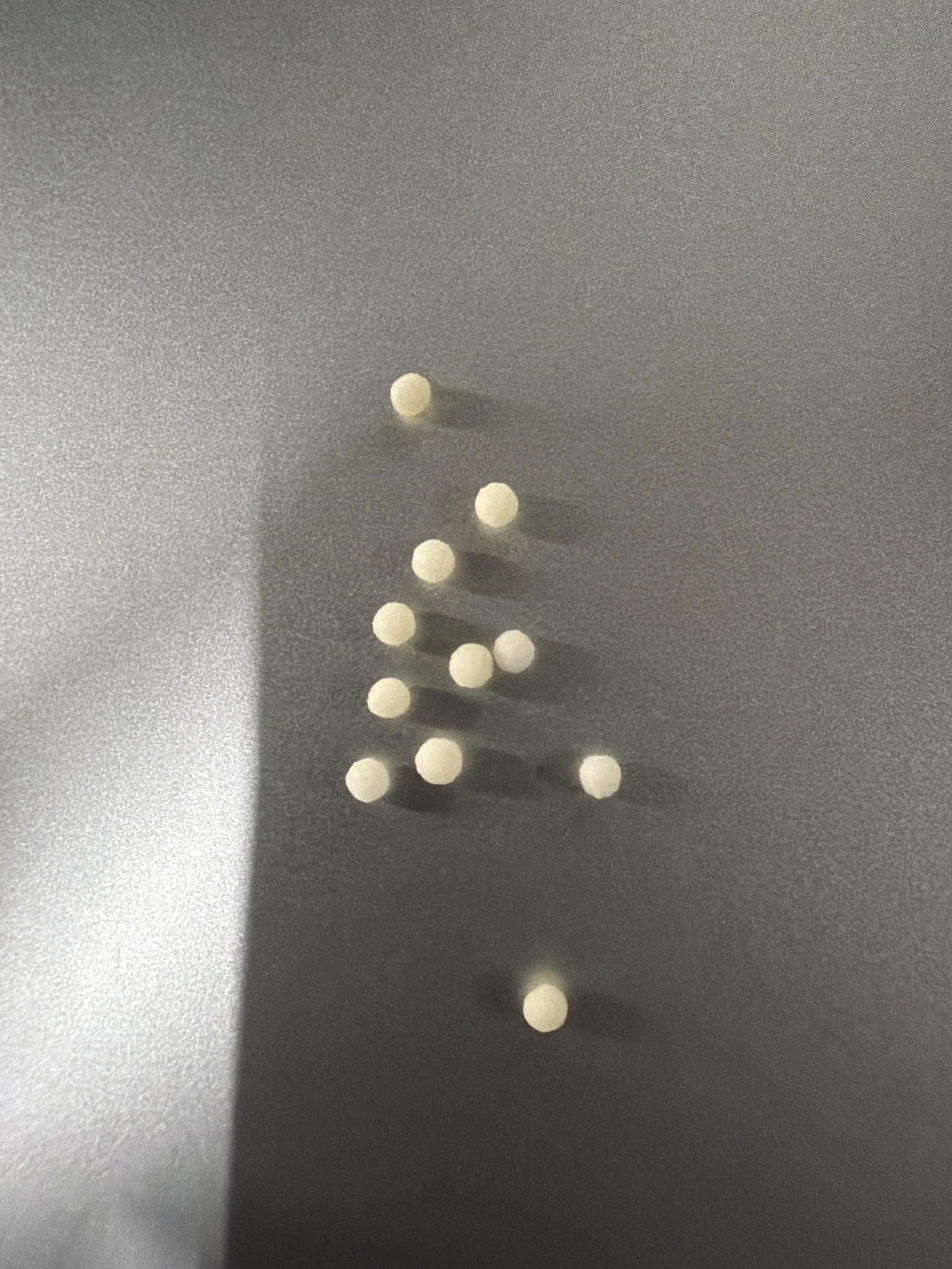pill: (415, 737, 462, 785), (523, 983, 567, 1032), (345, 758, 390, 803), (474, 482, 518, 528), (449, 643, 493, 688), (411, 539, 456, 583), (492, 629, 536, 673), (372, 602, 416, 646), (390, 373, 432, 418), (579, 754, 621, 798), (367, 677, 411, 719)
